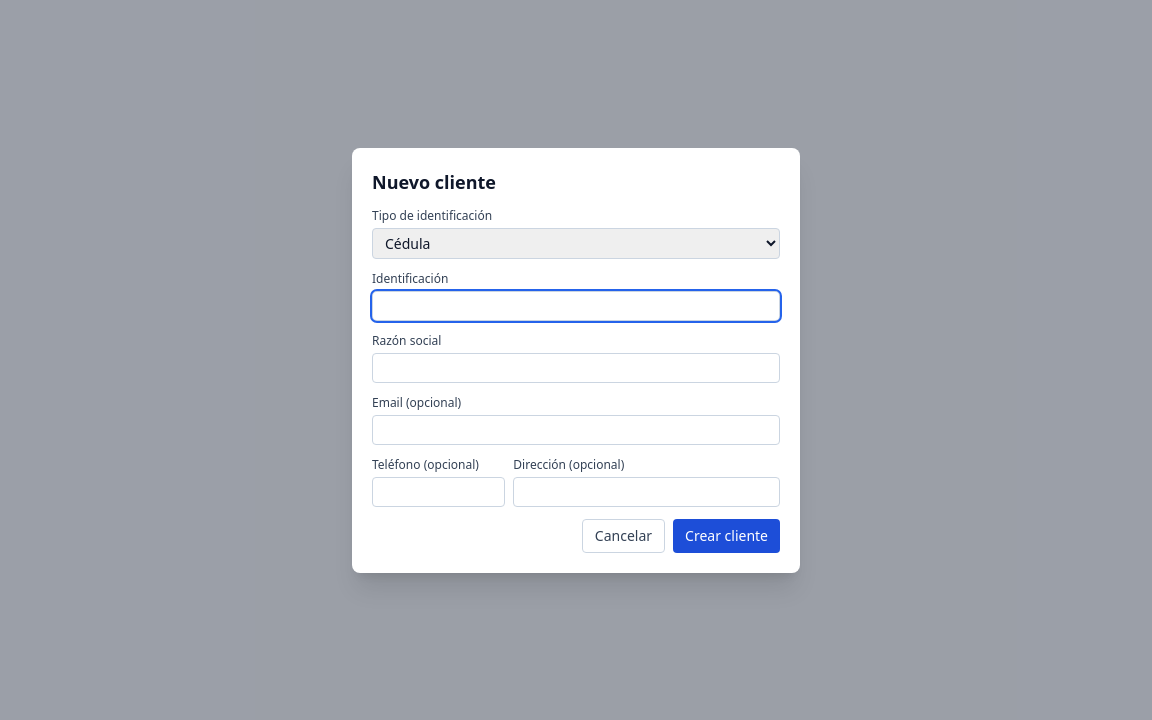
Test: <NewCustomerDialog> › server 400 with field error → inline error
Type "00" into the field labelled "Identificación". click: (576, 306)
box: [372, 290, 780, 320]
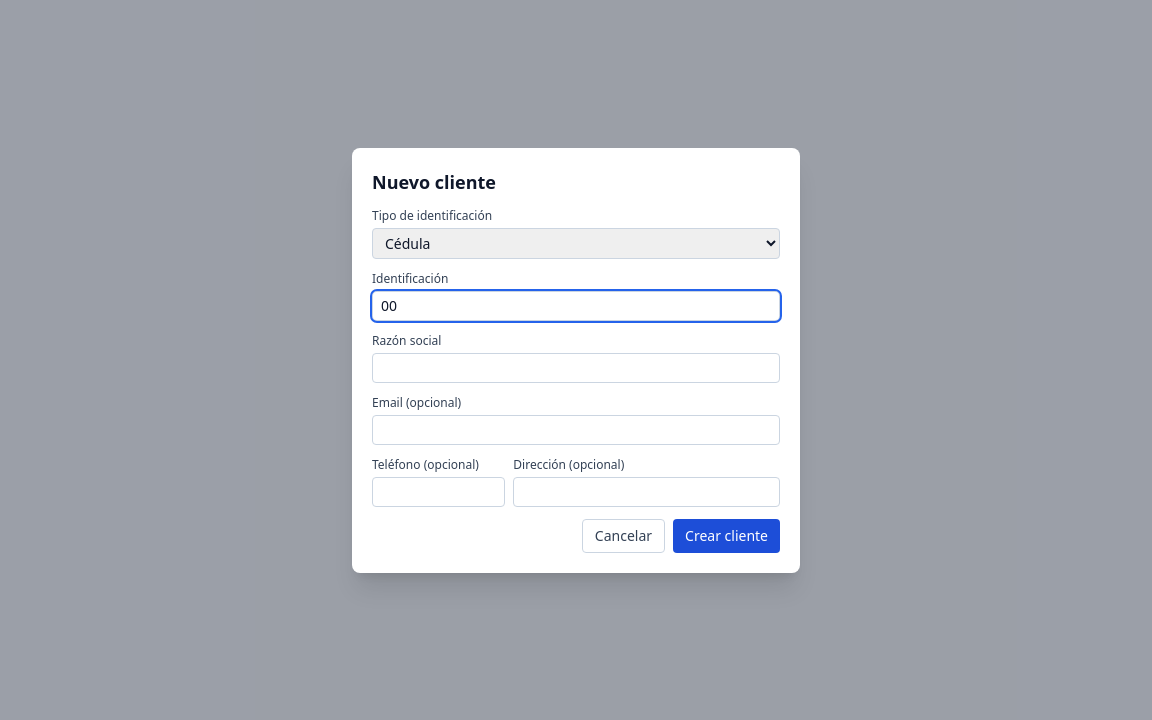
Type "X" into the field labelled "Razón social". click: (576, 368)
box: [372, 352, 780, 382]
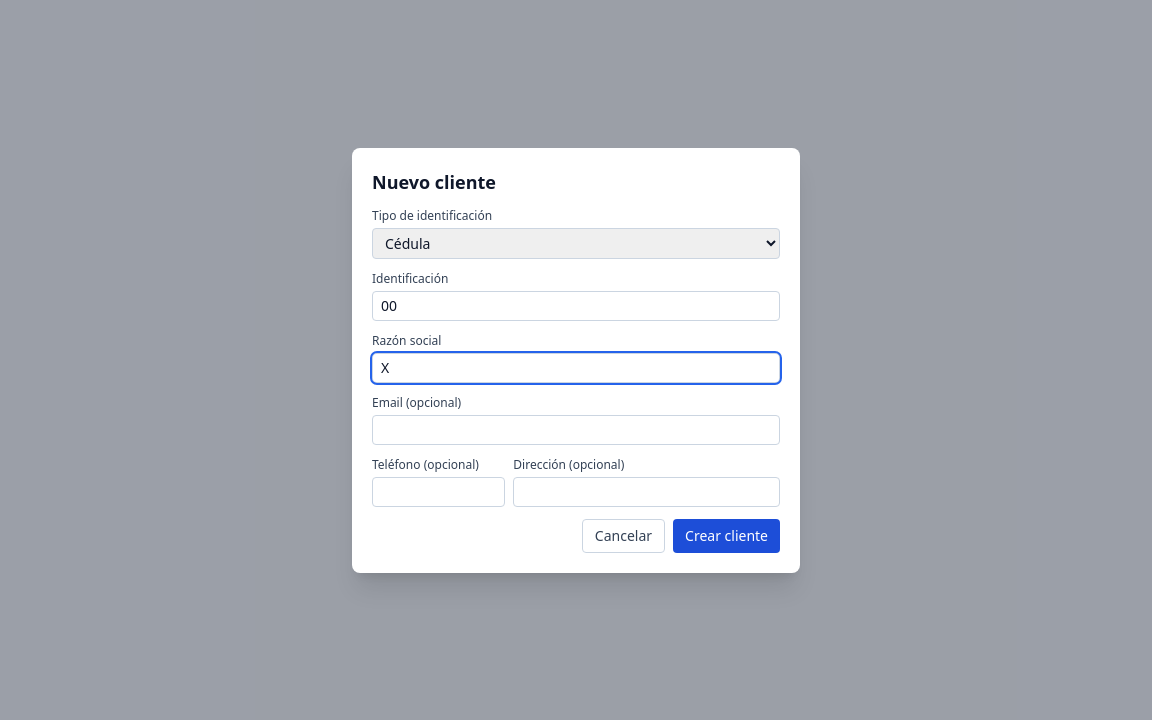
Click the button with test id "new-customer-submit". click: (726, 536)
box: [673, 518, 780, 552]
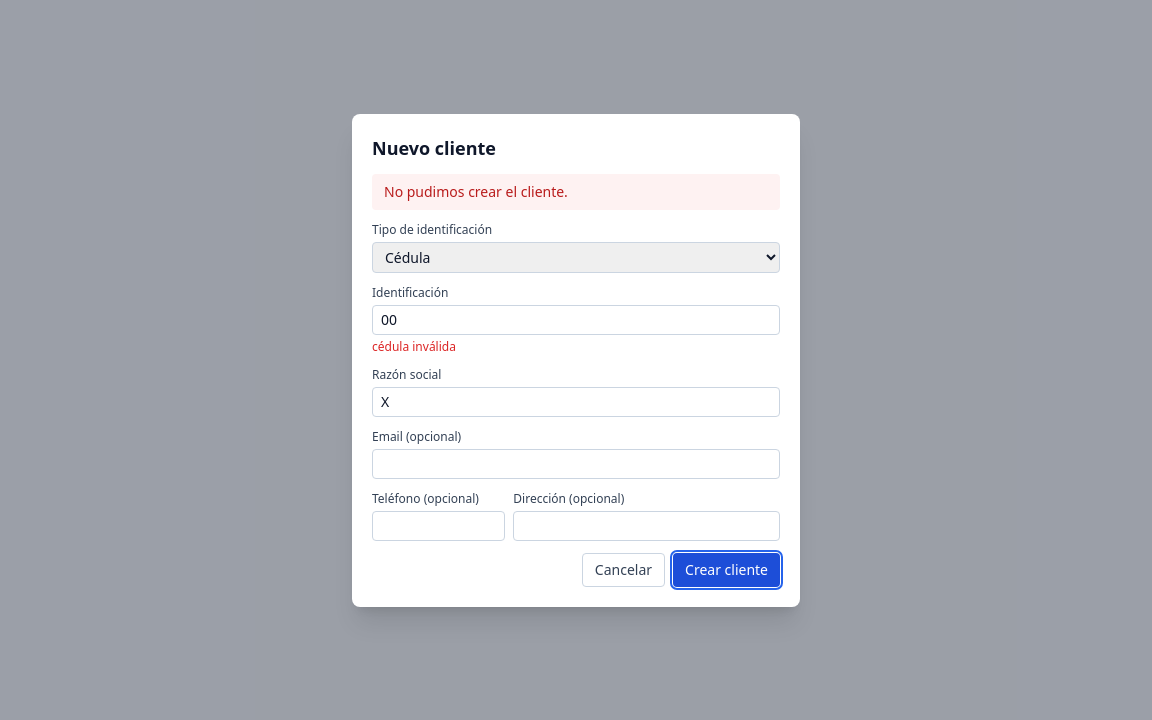
Expected: the text "cédula inválida" is shown, [372, 338, 456, 354]
